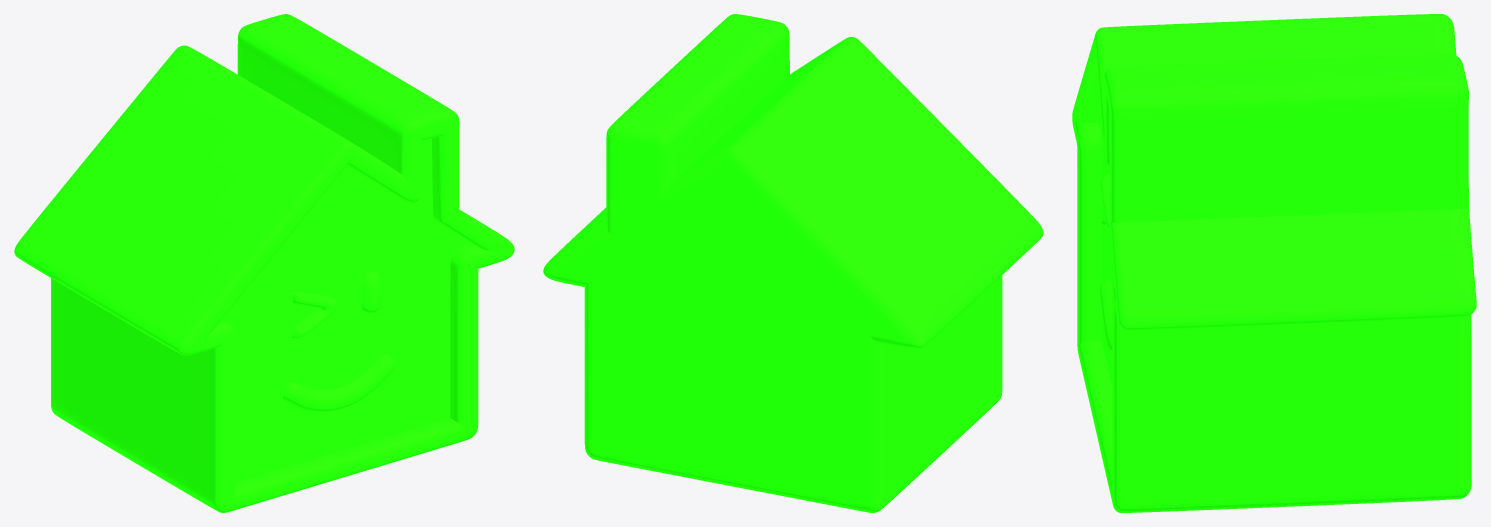
File: frensHouse_chrome_green.glb
3 renders of one model, left to right at view 1: azimuth 30°, elevation 25°; view 2: azimuth 150°, elevation 25°; view 3: azimuth 270°, elevation 25°, orthographic. The views are drawn at different scales.
Parts seen in each view (by area): view 1: House; view 2: House; view 3: House.
Boxes of the visible parts, <box> form: House: <box>14,14,514,512</box>; House: <box>543,14,1043,512</box>; House: <box>1072,14,1476,512</box>.
Size of the model in its own units: 2.8 by 2.38 by 2.13.
